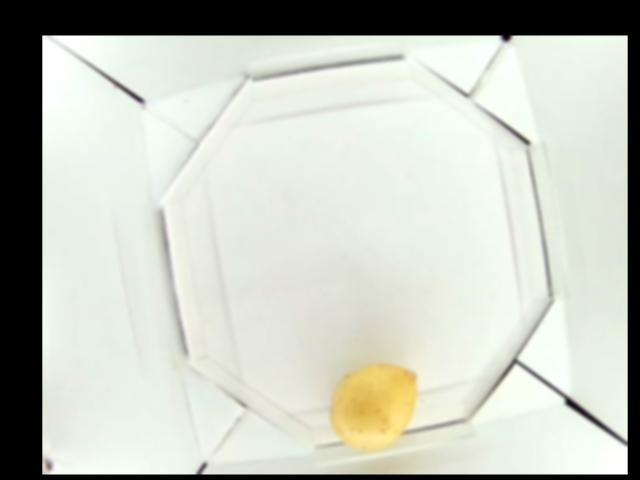Potato: (332, 362, 420, 454)
